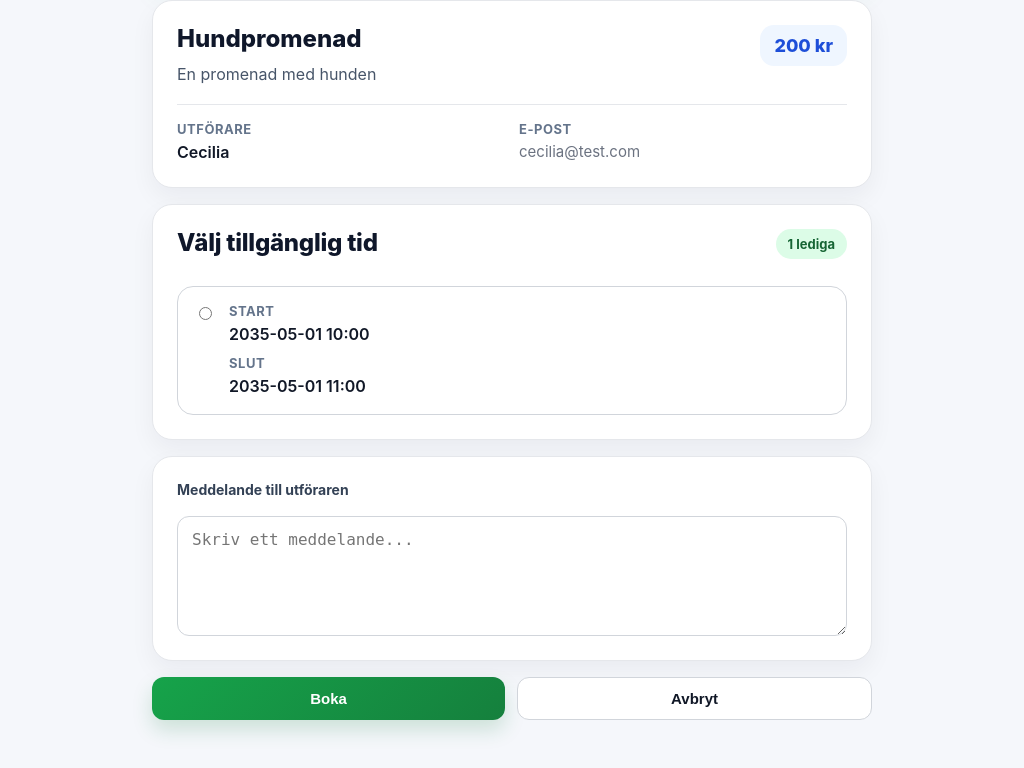
Test case: CreateBookingPage › visar felmeddelande om användaren försöker boka utan att välja tid
(page scrolled)
Expected: the heading "Hundpromenad" is shown, [177, 24, 362, 53]
Click the button "Boka" at (328, 698), box [152, 676, 505, 720]
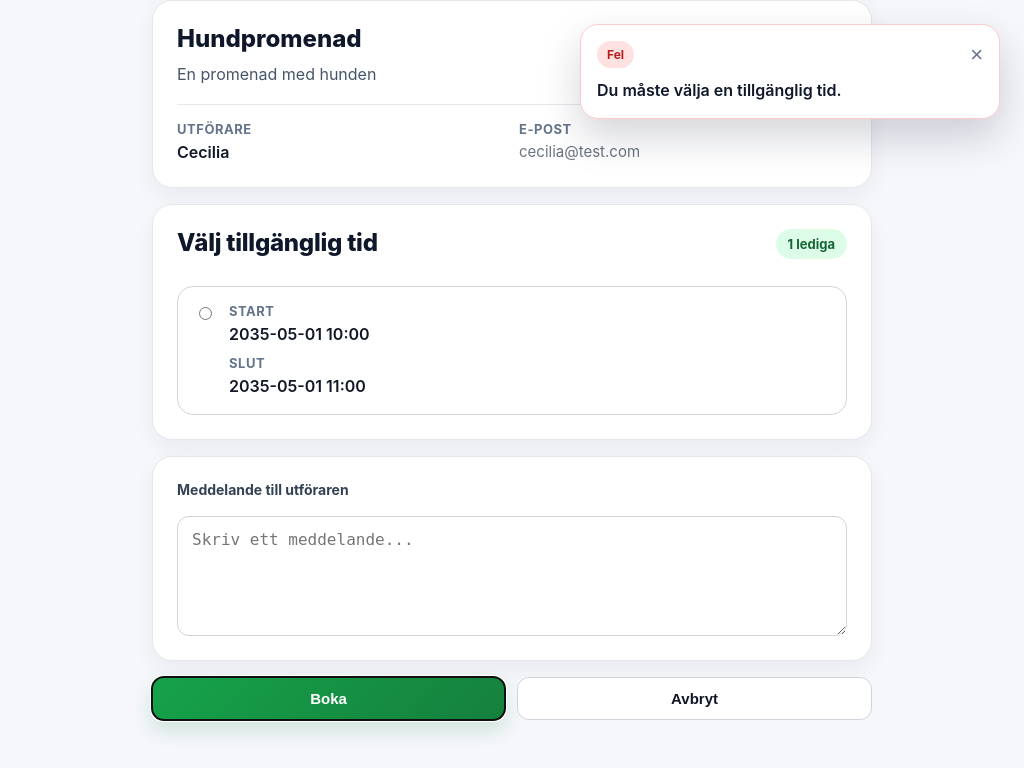
Expected: the text "Du måste välja en tillgänglig tid." is shown, [597, 80, 842, 100]
